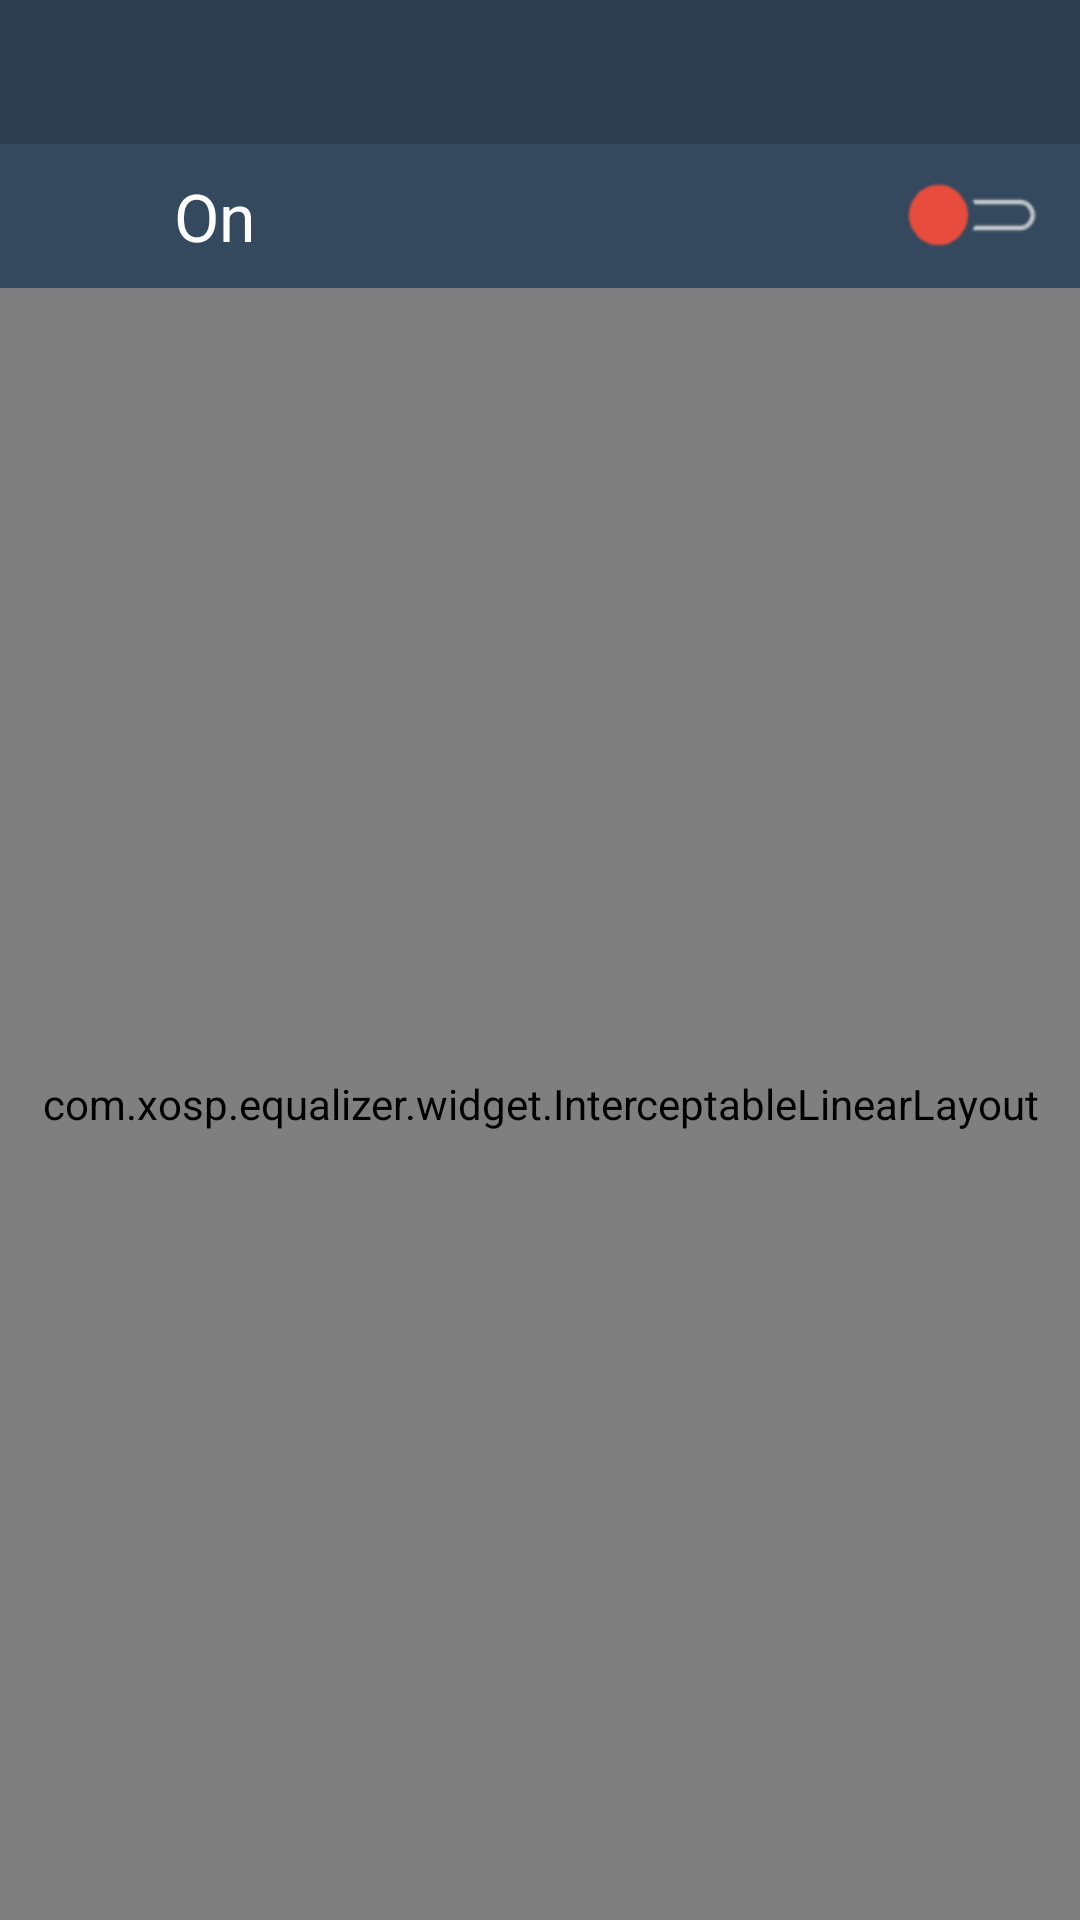

Screen size 1080 × 1920. Icon name, then its box in pixels as (x1, y1, x2, y2):
togglestate: (908, 184, 1036, 246)
